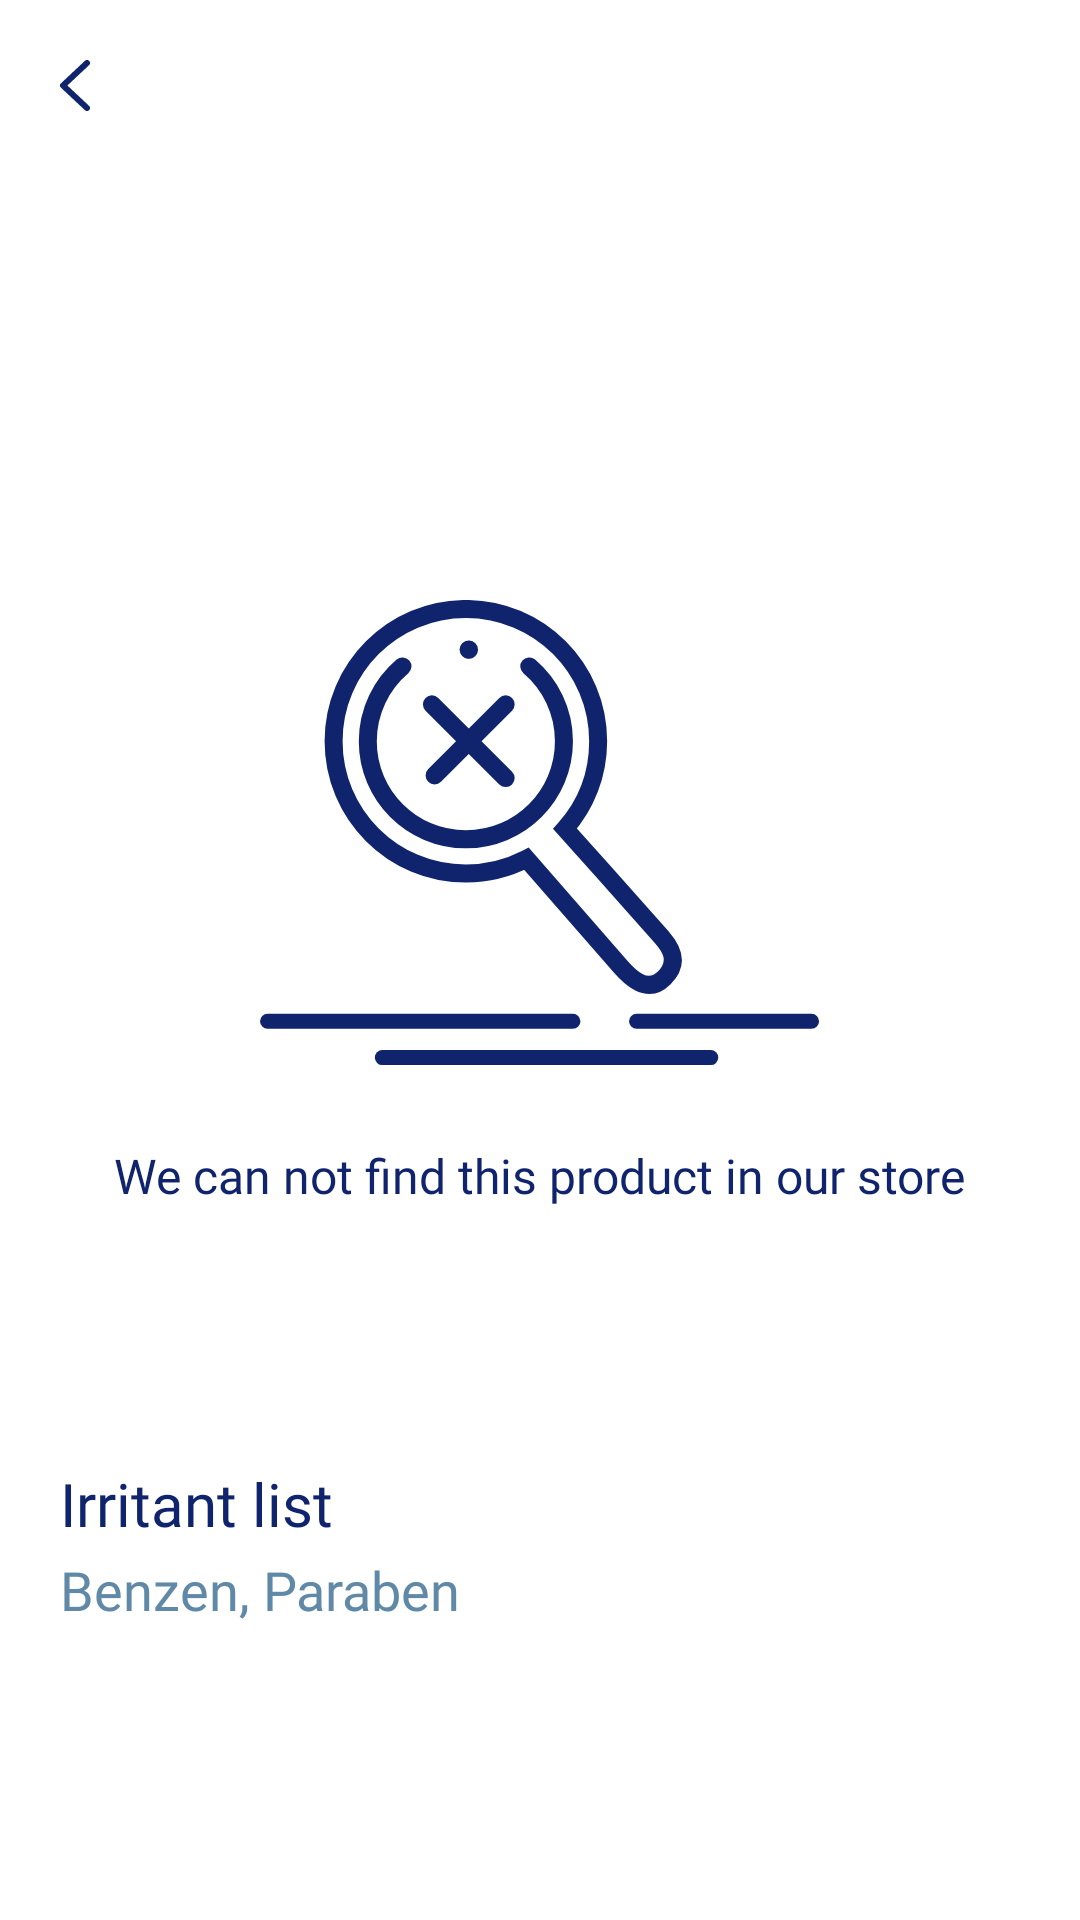

Icon click points for this 1080px×1920px phone screenshot, format point (x, y):
back: point (75, 85)
